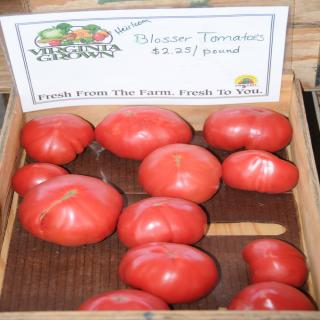tomato: (18, 172, 125, 245), (115, 240, 222, 303), (93, 106, 194, 162), (138, 144, 226, 206), (115, 196, 210, 244), (201, 106, 293, 152), (19, 113, 96, 164), (219, 148, 302, 194), (243, 236, 316, 288), (226, 282, 316, 312), (76, 289, 171, 313), (11, 162, 66, 197)
